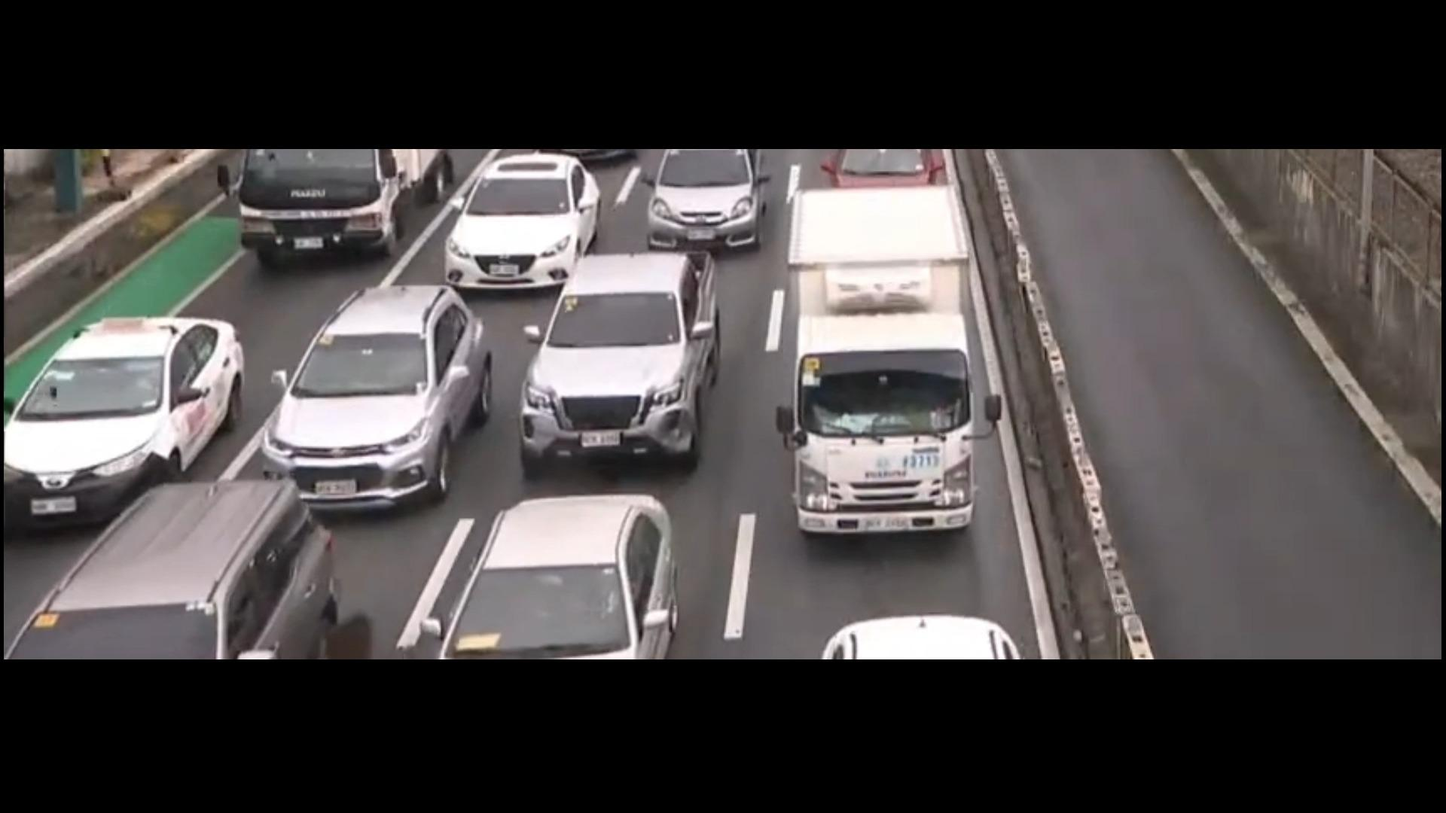SUV: (19, 491, 341, 662), (525, 262, 706, 459)
Sedan: (0, 318, 232, 525), (265, 284, 467, 508), (439, 491, 683, 655), (441, 152, 586, 297), (636, 152, 761, 258)
Truck: (778, 196, 981, 538), (232, 137, 435, 263)
